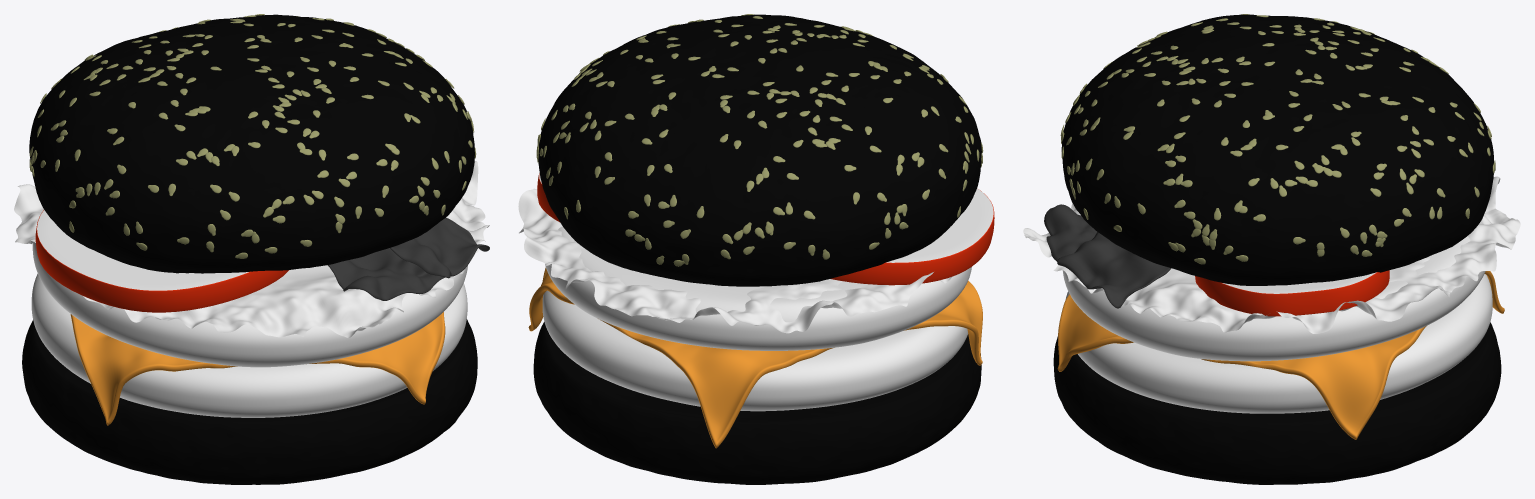
File: uploads_files_2465920_burger_merged.fbx
3 views of the same model, side by side, from view 1: azimuth 30°, elevation 25°; view 2: azimuth 150°, elevation 25°; view 3: azimuth 270°, elevation 25° (orthographic).
Parts seen in each view (by area): view 1: Cylinder; view 2: Cylinder; view 3: Cylinder.
Part boxes in pixels (x1,y1,x2,y2): Cylinder: (14,14,489,484); Cylinder: (518,14,994,484); Cylinder: (1023,14,1520,484).
Size of the model in its own units: 223 by 174 by 231.
